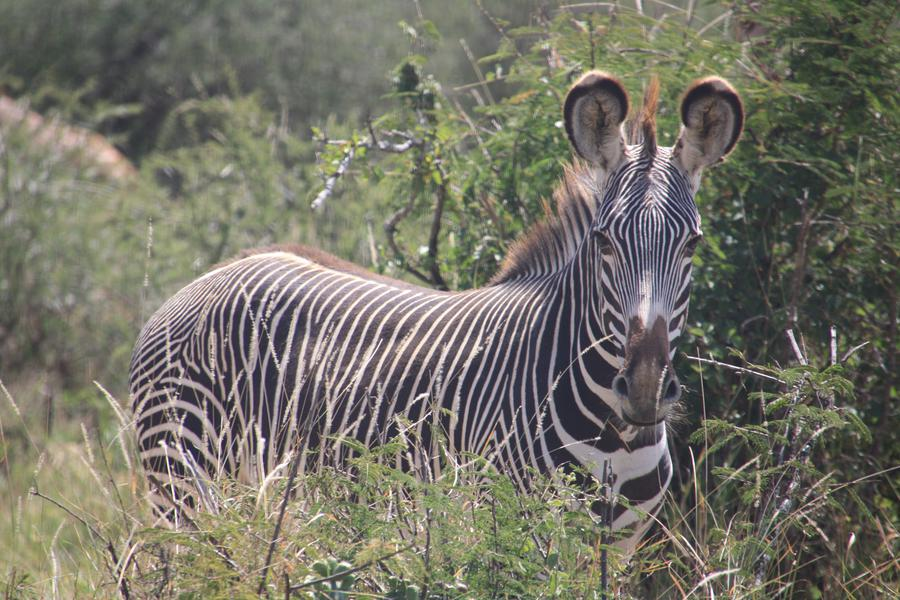zebra_grevys: (139, 234, 599, 490)
